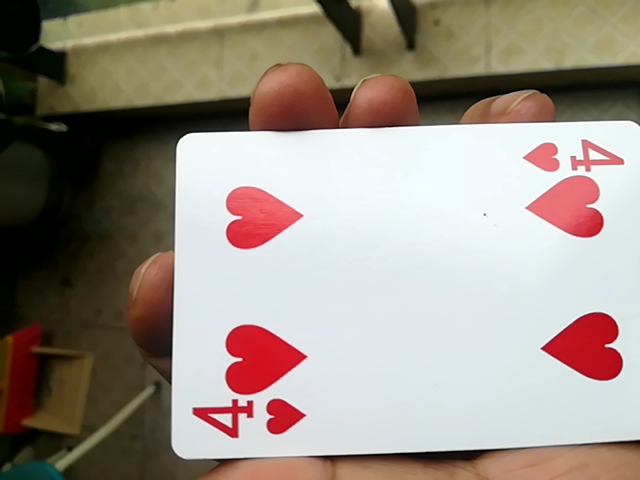hx 4: (167, 114, 638, 471)
